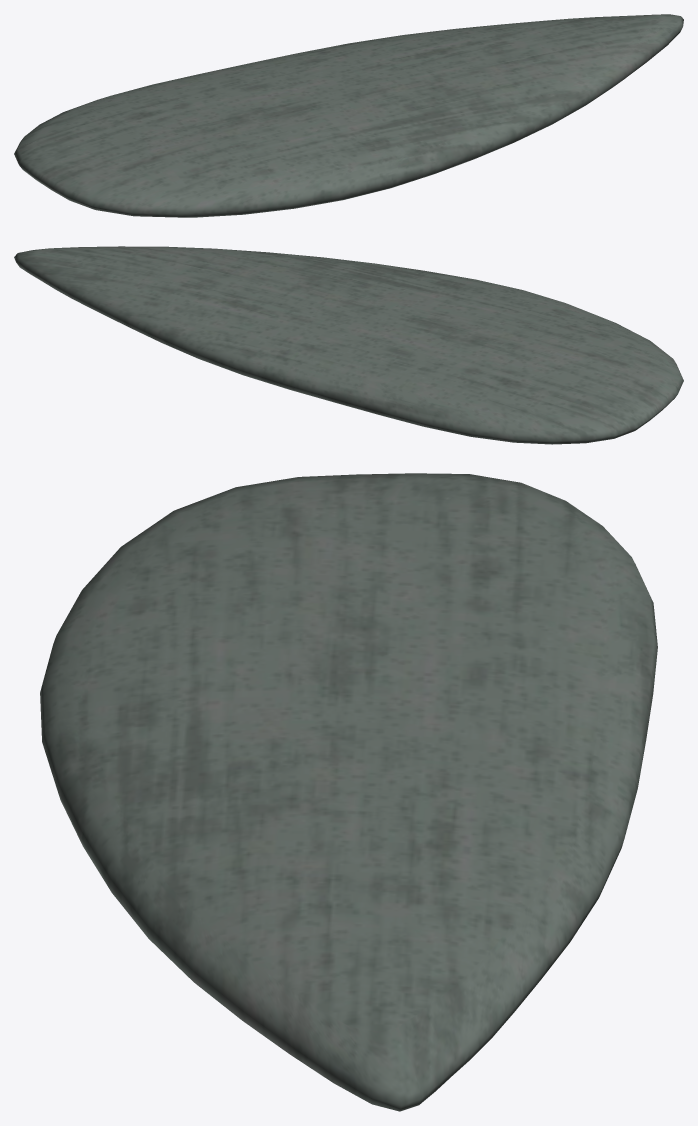
File: willow_leaf_04.glb
3 renders of one model, top to bottom at view 1: azimuth 30°, elevation 25°; view 2: azimuth 150°, elevation 25°; view 3: azimuth 270°, elevation 25°, orthographic. The views are drawn at different scales.
Visible parts, largest first — view 1: willow_leaf_04; view 2: willow_leaf_04; view 3: willow_leaf_04.
Boxes of the visible parts, box(x1,y1,x2,y2) form: willow_leaf_04: box(14, 14, 683, 217); willow_leaf_04: box(14, 246, 683, 444); willow_leaf_04: box(40, 473, 657, 1111).
Bounding box in the file's own units: 0.109 × 0.00704 × 0.0454.
1 material, 1 textured.
